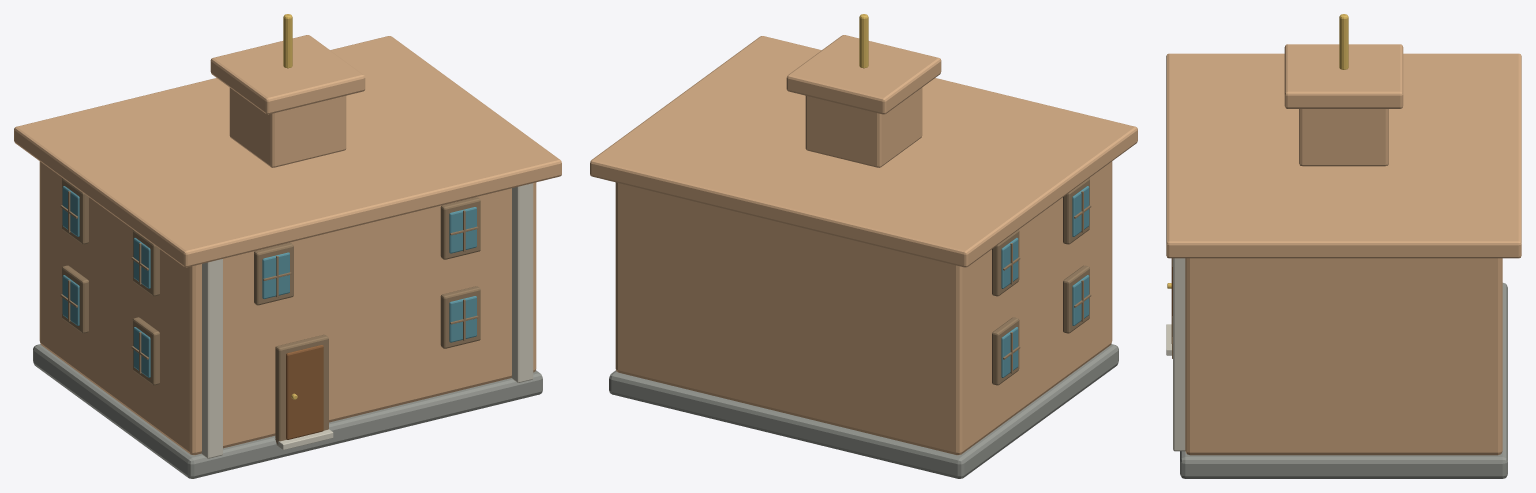
Rendered from arid-civic-0.glb.
3 renders of one model, left to right at view 1: azimuth 30°, elevation 25°; view 2: azimuth 150°, elevation 25°; view 3: azimuth 270°, elevation 25°, orthographic. The views are drawn at different scales.
Visible parts, largest first — view 1: Adobe cream, Adobe warm_stone, Foundation stone, Palm beams, Cut limestone, Blue glass, Door oak, Warm brass; view 2: Adobe warm_stone, Adobe cream, Foundation stone, Palm beams, Blue glass; view 3: Adobe cream, Adobe warm_stone, Foundation stone, Cut limestone, Warm brass.
Part boxes in pixels (<box>): Adobe cream: <box>14,35,561,267</box>; Adobe warm_stone: <box>39,161,536,455</box>; Foundation stone: <box>33,344,542,478</box>; Palm beams: <box>60,178,480,444</box>; Cut limestone: <box>201,183,533,458</box>; Blue glass: <box>62,186,476,377</box>; Door oak: <box>286,345,323,439</box>; Warm brass: <box>283,14,297,399</box>; Adobe warm_stone: <box>615,161,1112,455</box>; Adobe cream: <box>590,35,1137,267</box>; Foundation stone: <box>609,344,1118,478</box>; Palm beams: <box>992,178,1091,385</box>; Blue glass: <box>1001,186,1089,377</box>; Adobe cream: <box>1166,44,1521,258</box>; Adobe warm_stone: <box>1185,258,1502,455</box>; Foundation stone: <box>1180,283,1507,478</box>; Cut limestone: <box>1166,258,1185,451</box>; Warm brass: <box>1167,14,1348,288</box>.
Size of the model in its own units: 5.24 by 4.84 by 4.14.
